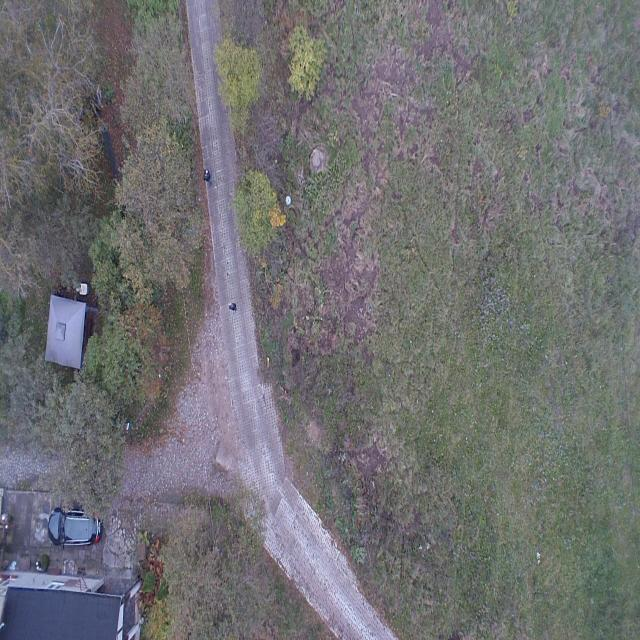p3rson: (203, 170, 213, 187), (229, 302, 237, 312)
